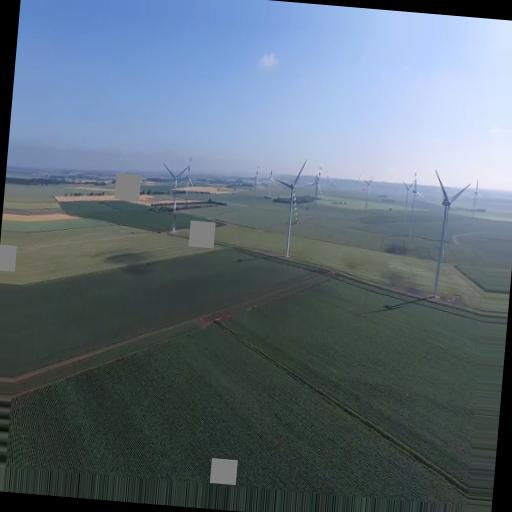wind turbine: (434, 172, 473, 294), (273, 159, 308, 265), (161, 162, 191, 238)
